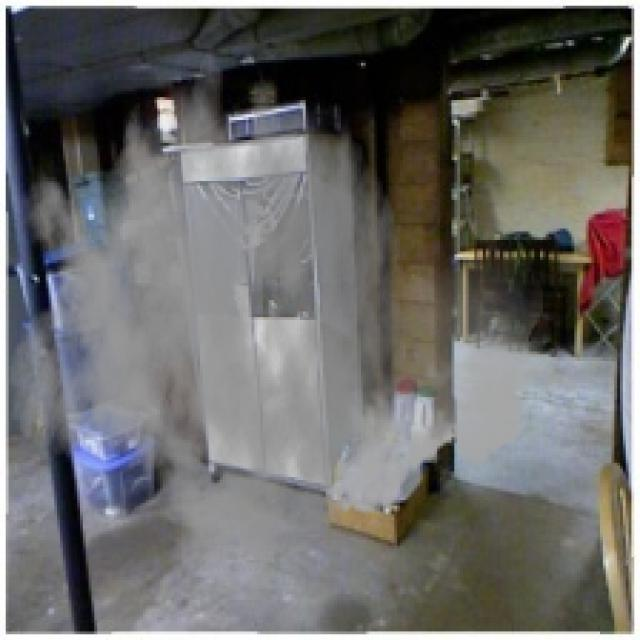smoke: (6, 20, 551, 586)
